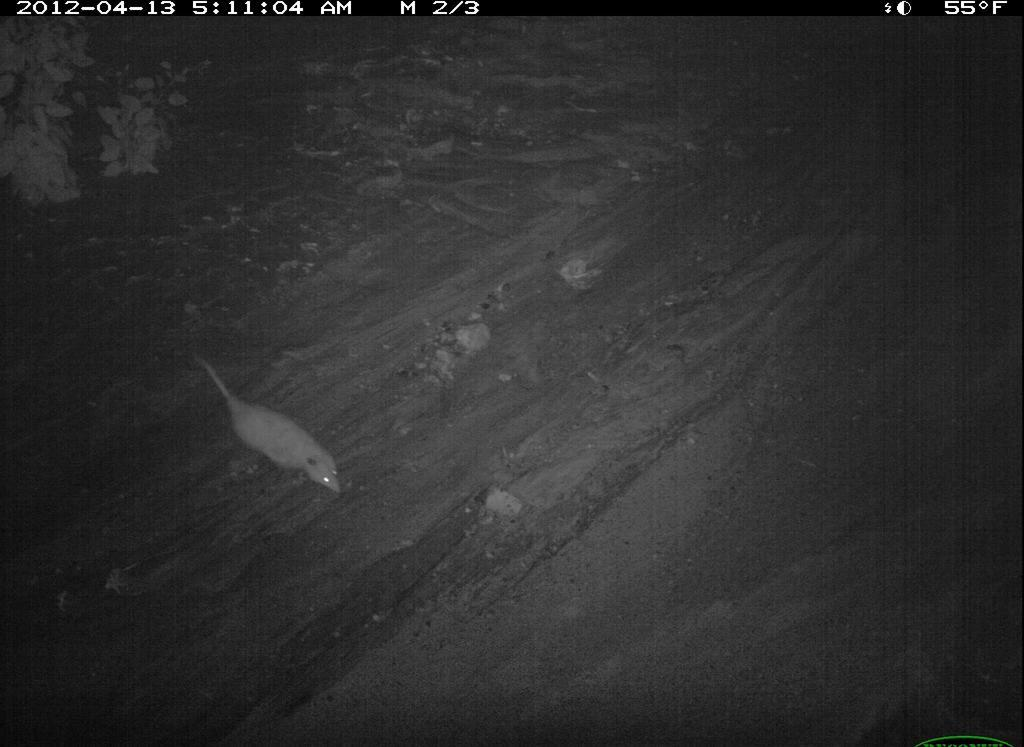opossum: (379, 695, 699, 747)
